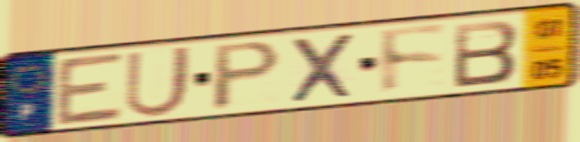B: (451, 17, 522, 90)
E: (54, 49, 127, 129)
F: (377, 22, 451, 99)
P: (208, 38, 285, 114)
U: (121, 43, 196, 120)
X: (288, 30, 357, 106)
